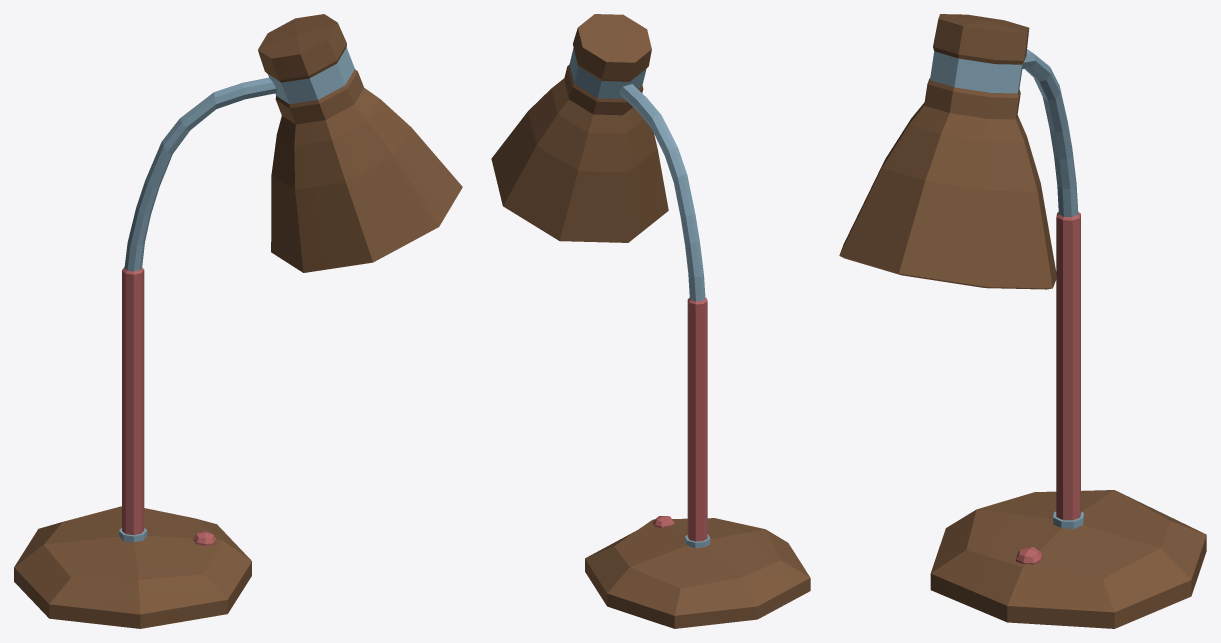
File: Bedroom_Lamp.fbx
The picture shows the model from 3 angles, left to right: view 1: azimuth 30°, elevation 25°; view 2: azimuth 150°, elevation 25°; view 3: azimuth 270°, elevation 25°; orthographic projection. The views are drawn at different scales.
Parts seen in each view (by area): view 1: Bedroom_Lamp; view 2: Bedroom_Lamp; view 3: Bedroom_Lamp.
Part boxes in pixels (left/top/right/bottom): Bedroom_Lamp: left=14, top=14, right=462, bottom=628; Bedroom_Lamp: left=491, top=14, right=810, bottom=628; Bedroom_Lamp: left=839, top=14, right=1206, bottom=628.
Bounding box in the file's own units: 55.59 × 79.95 × 42.01.
